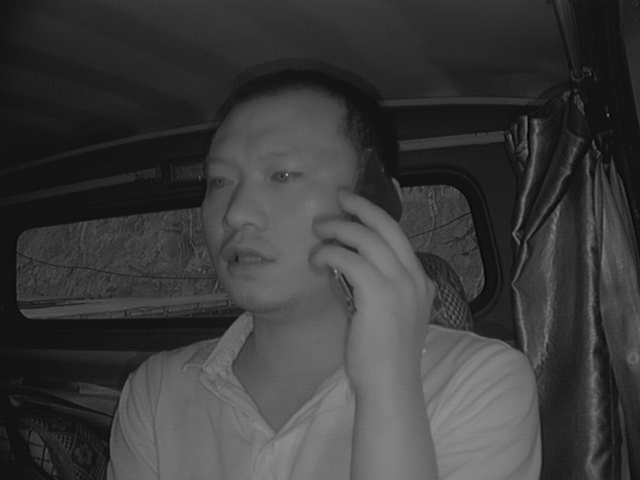hand: (323, 191, 442, 383)
